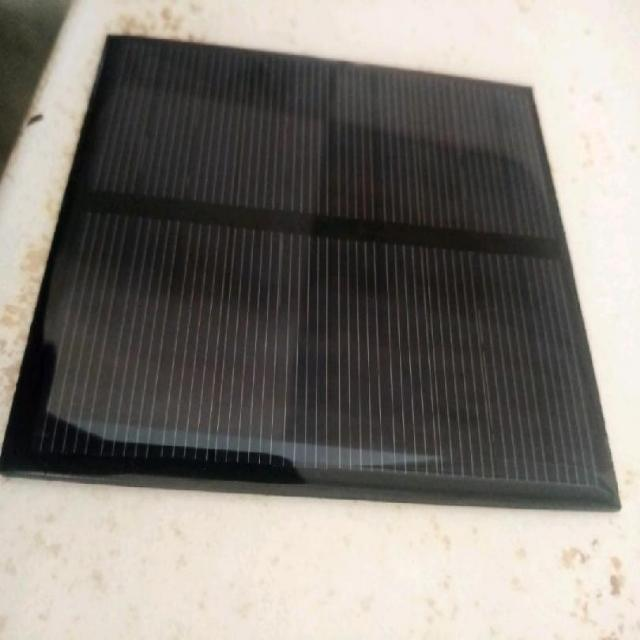no faulty: (55, 59, 549, 502)
